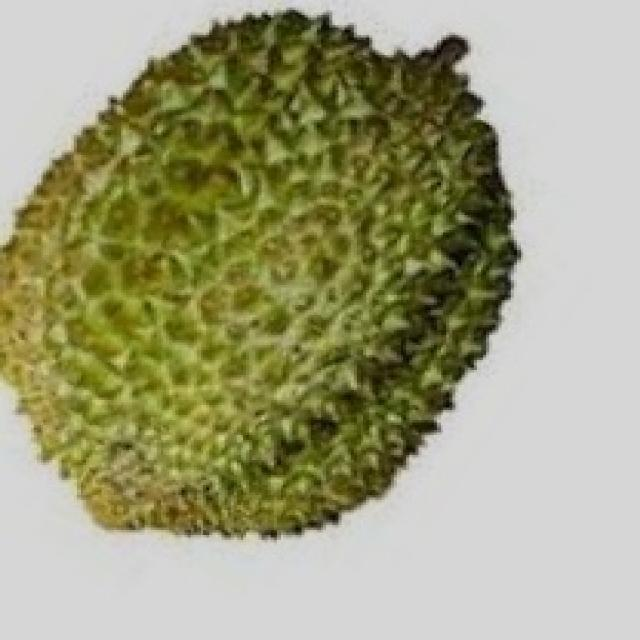fruit: (0, 202, 338, 592)
